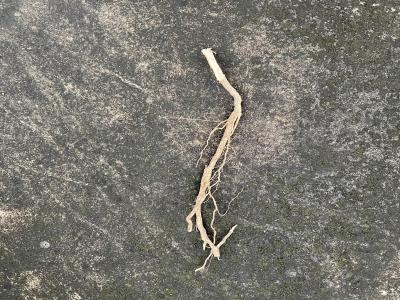Root: (186, 48, 242, 270)
